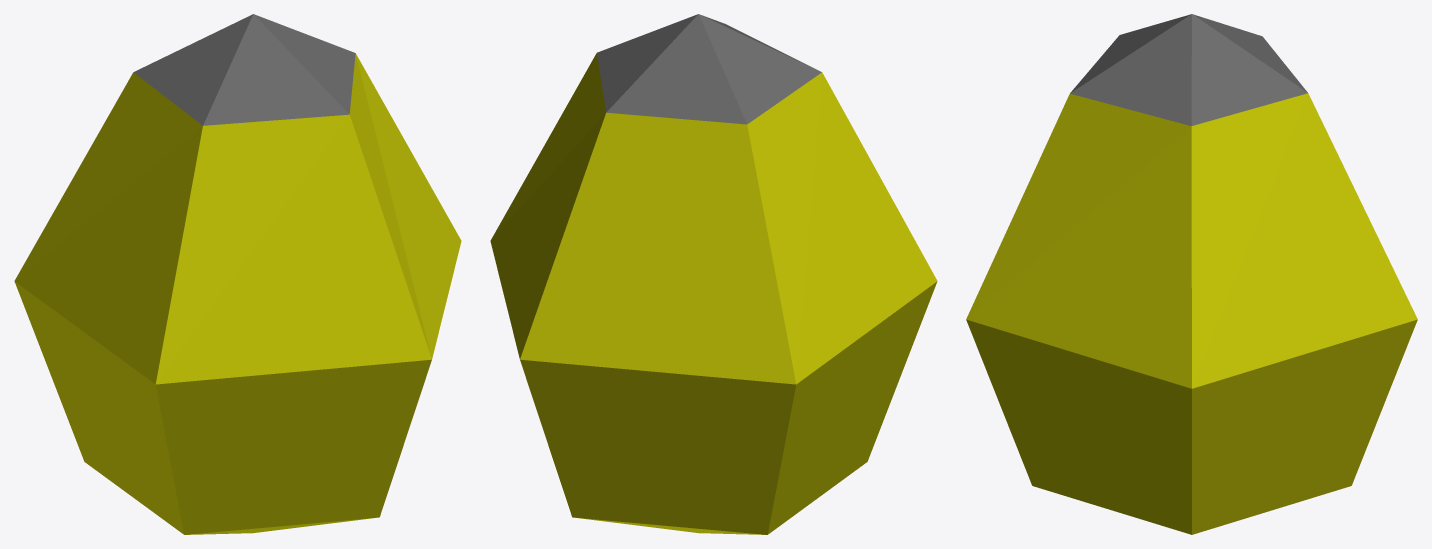
File: LIGHT.OBJ
3 views of the same model, side by side, from view 1: azimuth 30°, elevation 25°; view 2: azimuth 150°, elevation 25°; view 3: azimuth 270°, elevation 25° (orthographic).
Parts seen in each view (by area): view 1: LIGHT; view 2: LIGHT; view 3: LIGHT.
Boxes of the visible parts, box(x1,y1,x2,y2) form: LIGHT: box(14, 14, 461, 534); LIGHT: box(490, 14, 937, 534); LIGHT: box(966, 14, 1417, 534).
Size of the model in its own units: 0.3608 by 0.4753 by 0.3793.
